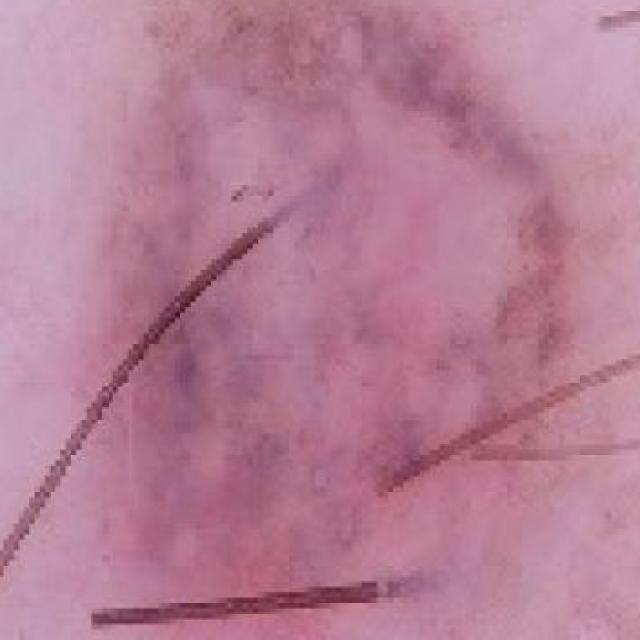BKL: (67, 0, 624, 640)
